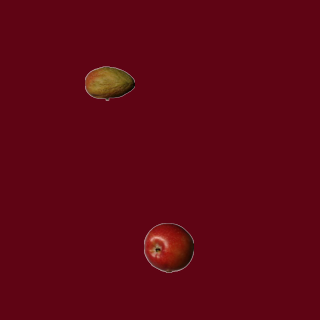Apple Braeburn: (143, 222, 193, 272)
Papaya: (84, 58, 134, 108)
